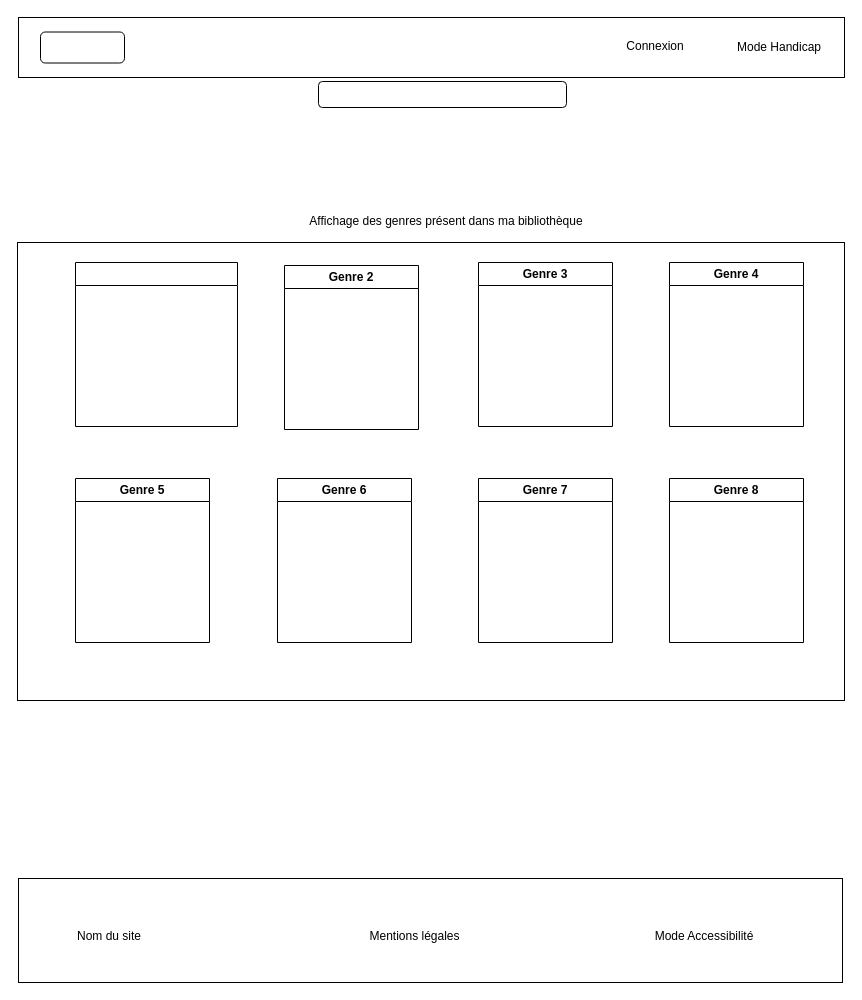
The diagram is 862 pixels wide and 1000 high, and some of its shapes have lost their labels. The centre of each missing label's shape, as x and y in pixels:
"Genre 1" belongs at point (156, 344).
"Logo" belongs at point (82, 47).
"Moteur de recherche" belongs at point (442, 94).
